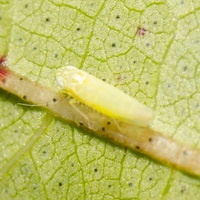insect: (0, 111, 54, 176)
